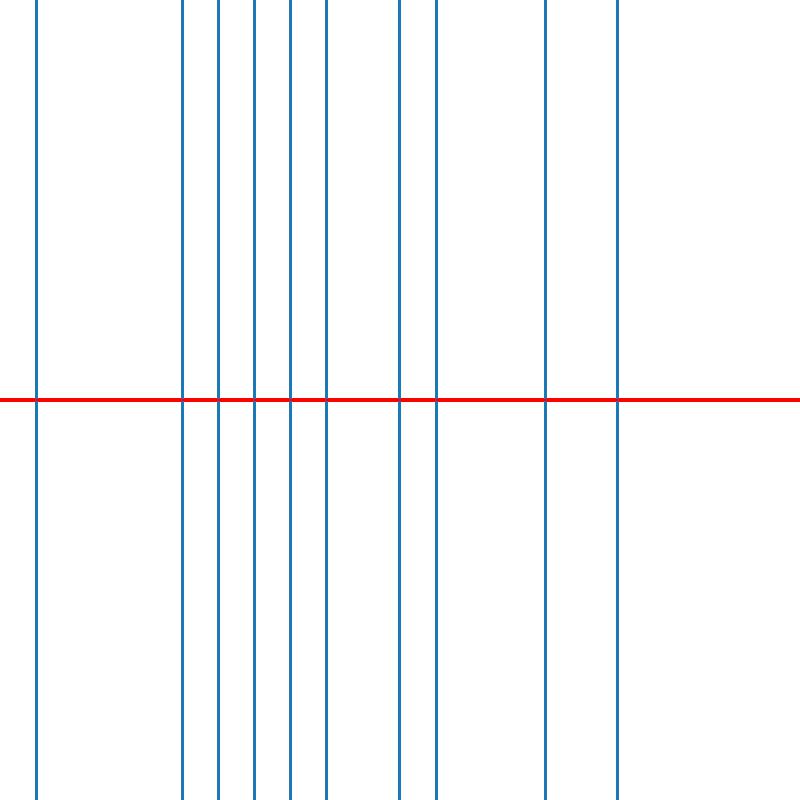root: (541, 396, 549, 404), (432, 396, 440, 404), (250, 396, 258, 404), (32, 396, 40, 404), (287, 396, 294, 404), (323, 396, 330, 404), (614, 396, 621, 404), (214, 396, 221, 404), (396, 396, 403, 404), (178, 396, 185, 404)
